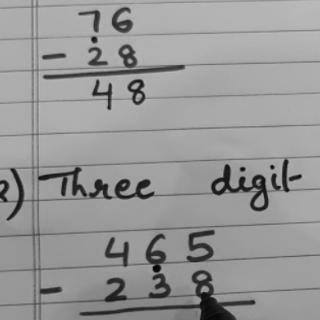.: (148, 263, 164, 276), (87, 32, 100, 46)
2: (103, 277, 130, 301), (85, 46, 108, 69)
3: (149, 273, 173, 300)
4: (104, 236, 131, 266), (92, 80, 114, 111)
5: (187, 227, 217, 265)
6: (146, 232, 170, 264), (110, 5, 135, 34)
7: (77, 8, 100, 32)
8: (191, 270, 214, 297), (117, 44, 140, 68), (127, 77, 146, 106)
